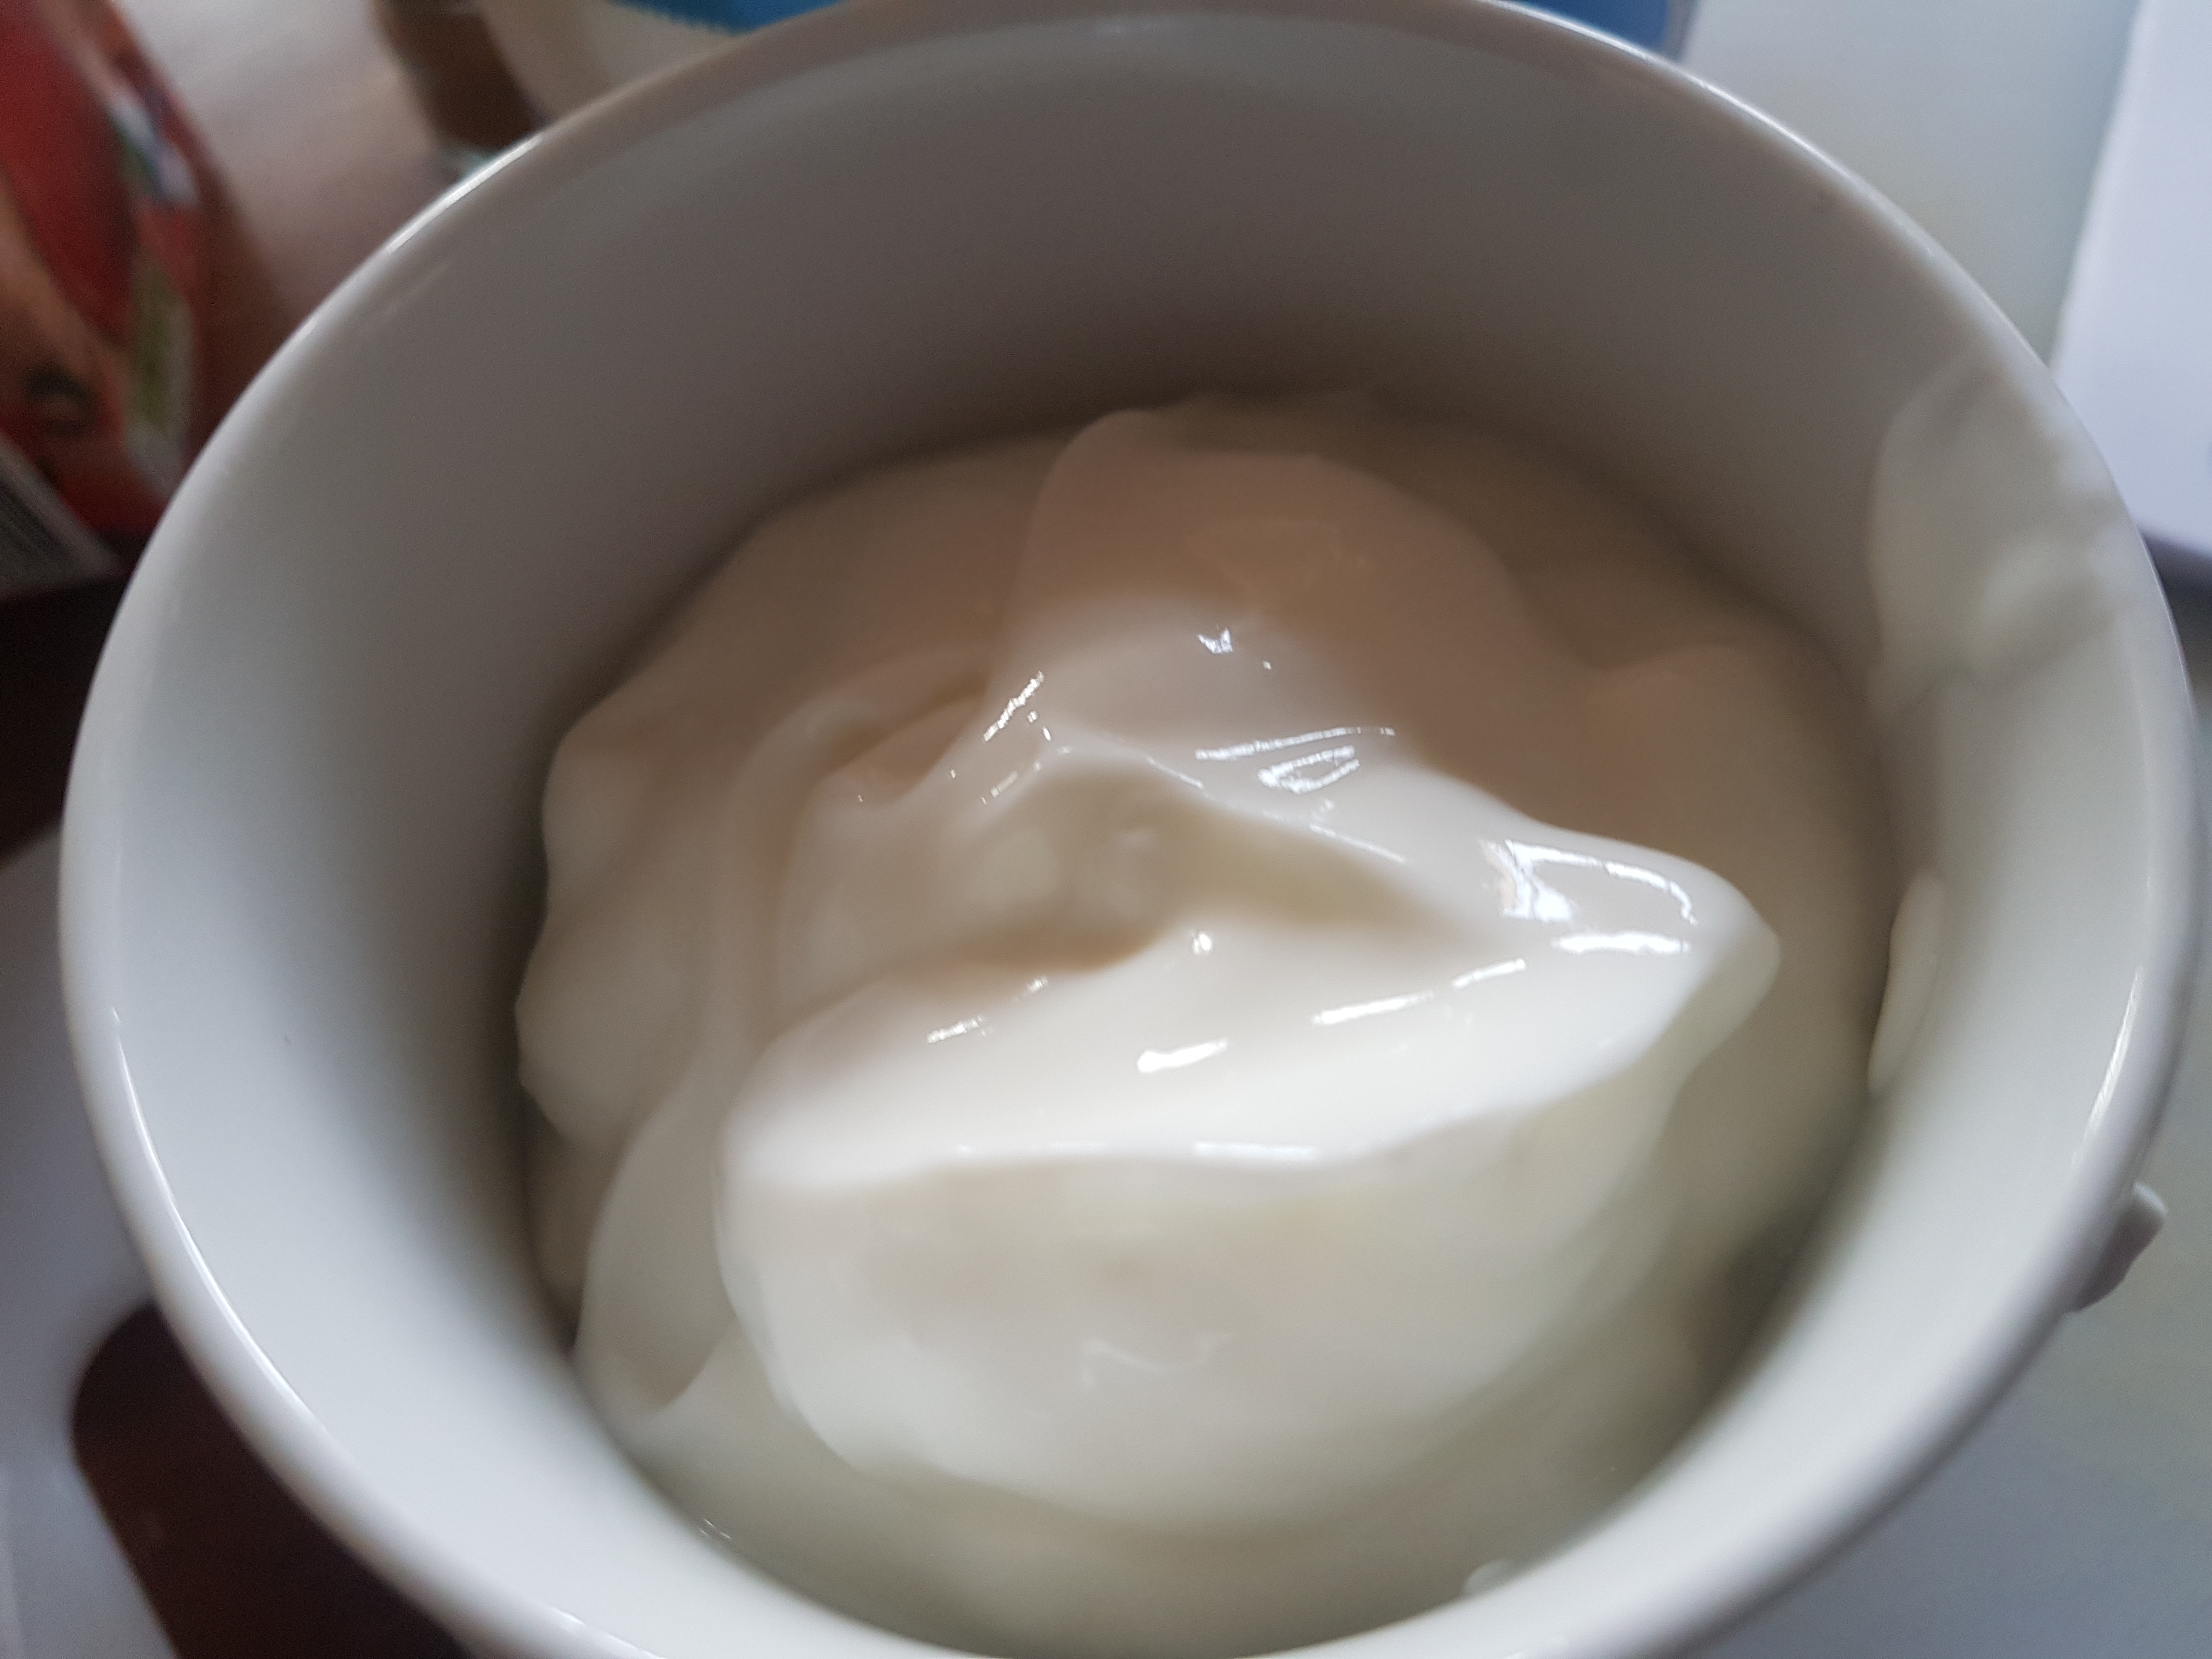Yogurt: (237, 171, 2148, 1568)
